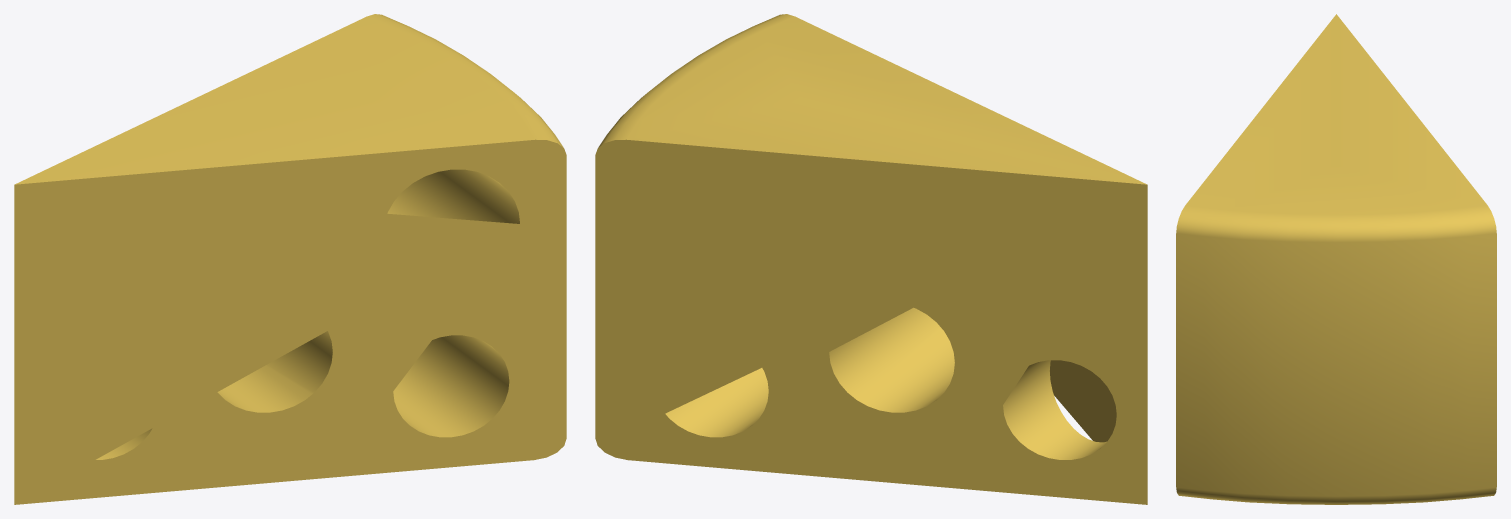
The model's file is keju.fbx.
3 views of the same model, side by side, from view 1: azimuth 30°, elevation 25°; view 2: azimuth 150°, elevation 25°; view 3: azimuth 270°, elevation 25° (orthographic). The views are drawn at different scales.
Parts seen in each view (by area): view 1: Cube; view 2: Cube; view 3: Cube.
Boxes of the visible parts, bbox=[...] form: Cube: bbox=[14, 14, 566, 504]; Cube: bbox=[595, 14, 1147, 504]; Cube: bbox=[1176, 14, 1496, 504].
Size of the model in its own units: 254 by 161 by 162.
Materials: 1 (1 with a texture image).
